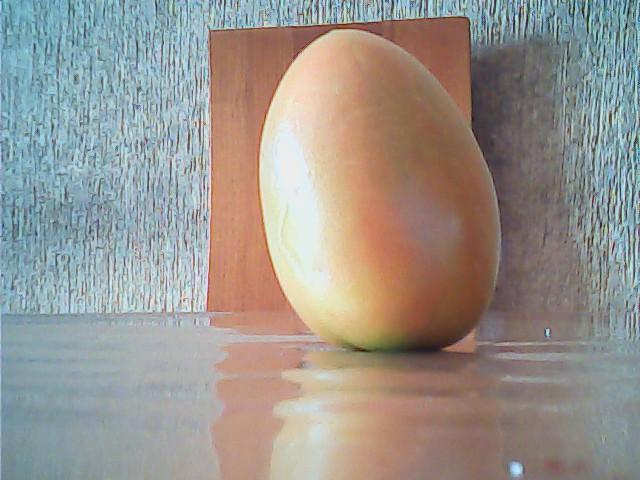verde: (258, 26, 499, 354)
